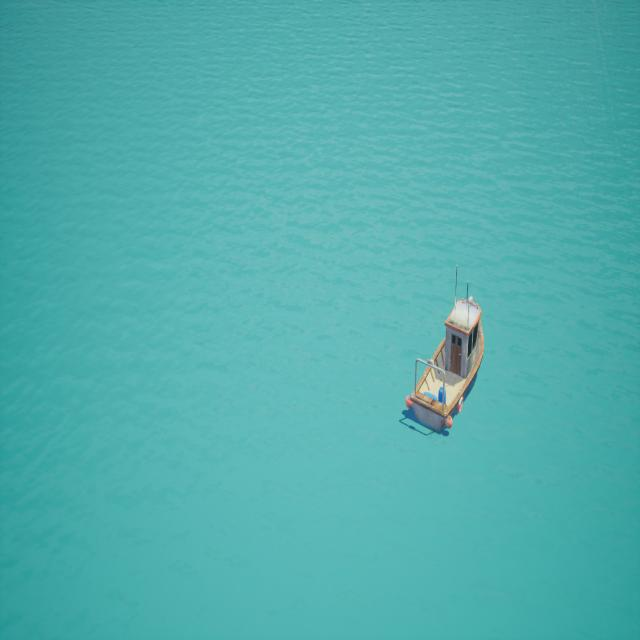ship: (403, 268, 483, 438)
